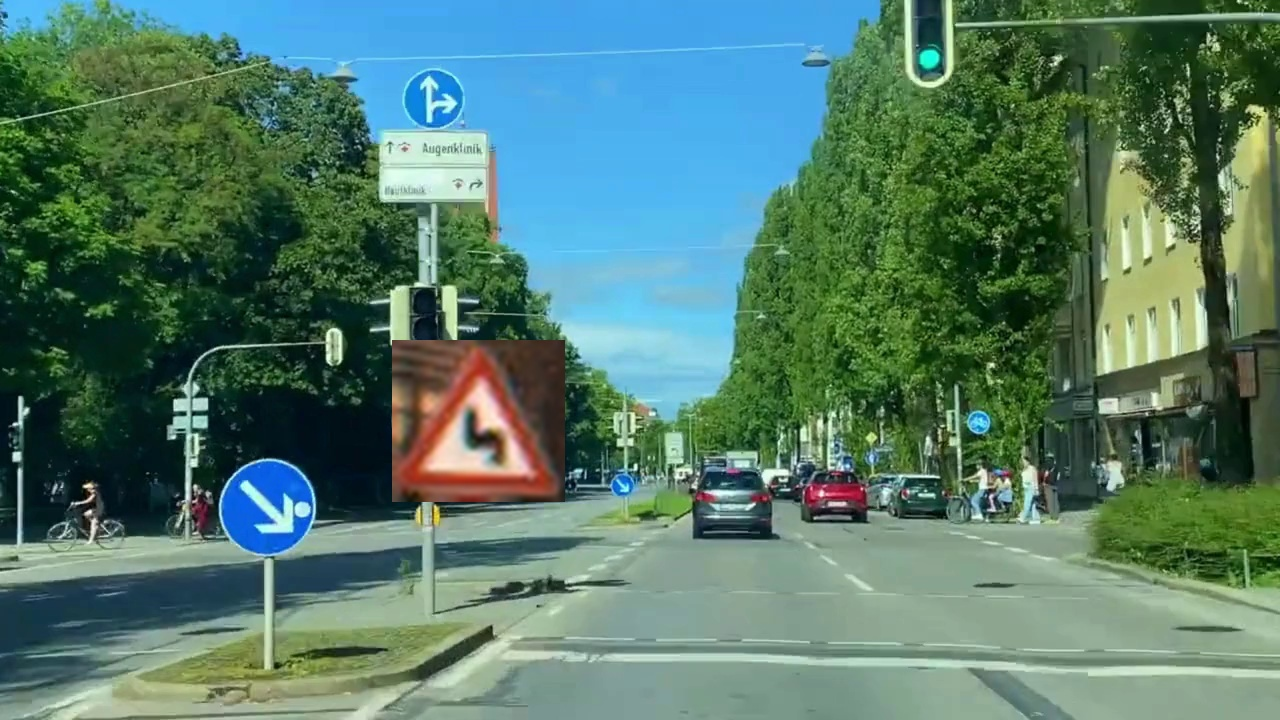Double curve: (392, 340, 565, 502)
